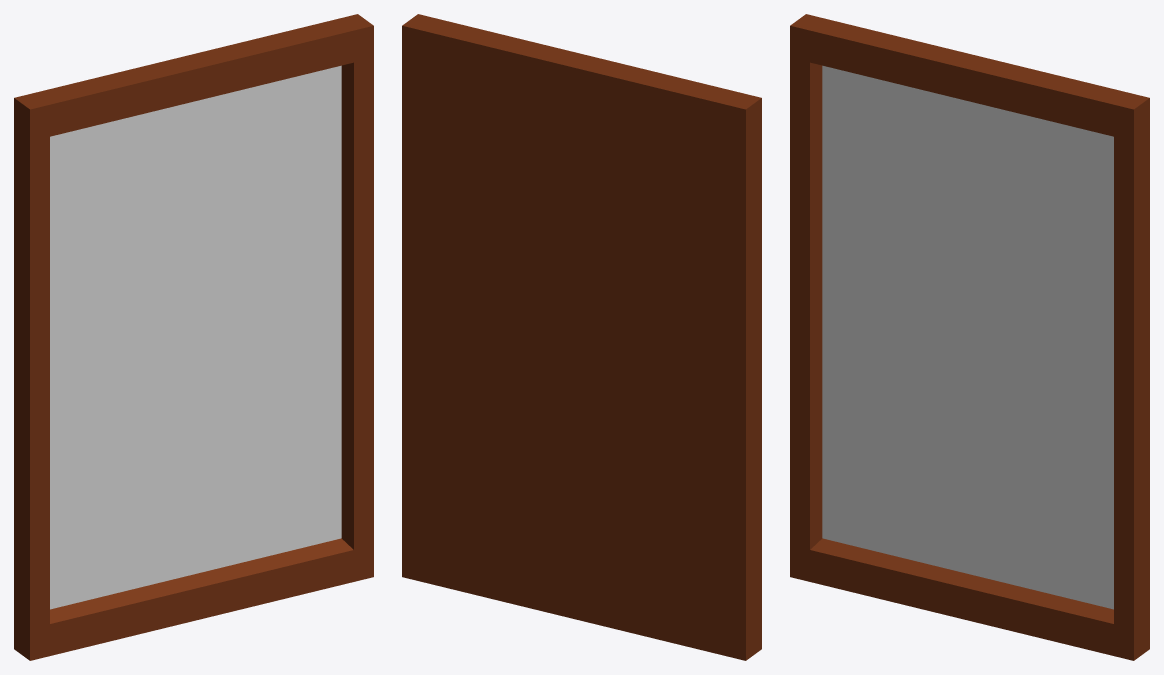
Rendered from CtrlAlt_Moldure_2.fbx.
3 renders of one model, left to right at view 1: azimuth 30°, elevation 25°; view 2: azimuth 150°, elevation 25°; view 3: azimuth 330°, elevation 25°, orthographic.
Parts seen in each view (by area): view 1: Cube; view 2: Cube; view 3: Cube.
Boxes of the visible parts, x1,y1,x2,y2 form: Cube: (14, 14, 373, 660); Cube: (402, 14, 761, 660); Cube: (790, 14, 1149, 660).
Size of the model in its own units: 231 by 354 by 18.61.
